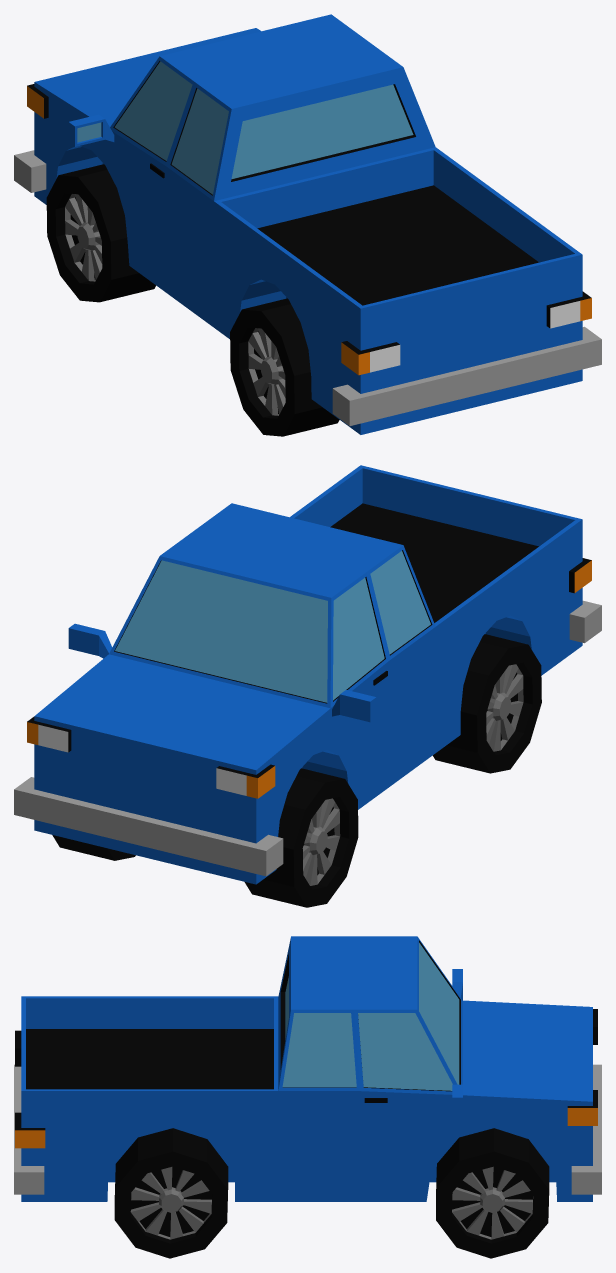
The model's file is pickUp.fbx.
3 renders of one model, top to bottom at view 1: azimuth 30°, elevation 25°; view 2: azimuth 150°, elevation 25°; view 3: azimuth 270°, elevation 25°, orthographic. The views are drawn at different scales.
Visible parts, largest first — view 1: car001.004; view 2: car001.004; view 3: car001.004.
Boxes of the visible parts, <box> form: car001.004: <box>14,14,601,436</box>; car001.004: <box>14,465,601,907</box>; car001.004: <box>14,936,601,1258</box>.
Size of the model in its own units: 119 by 99.97 by 229.
